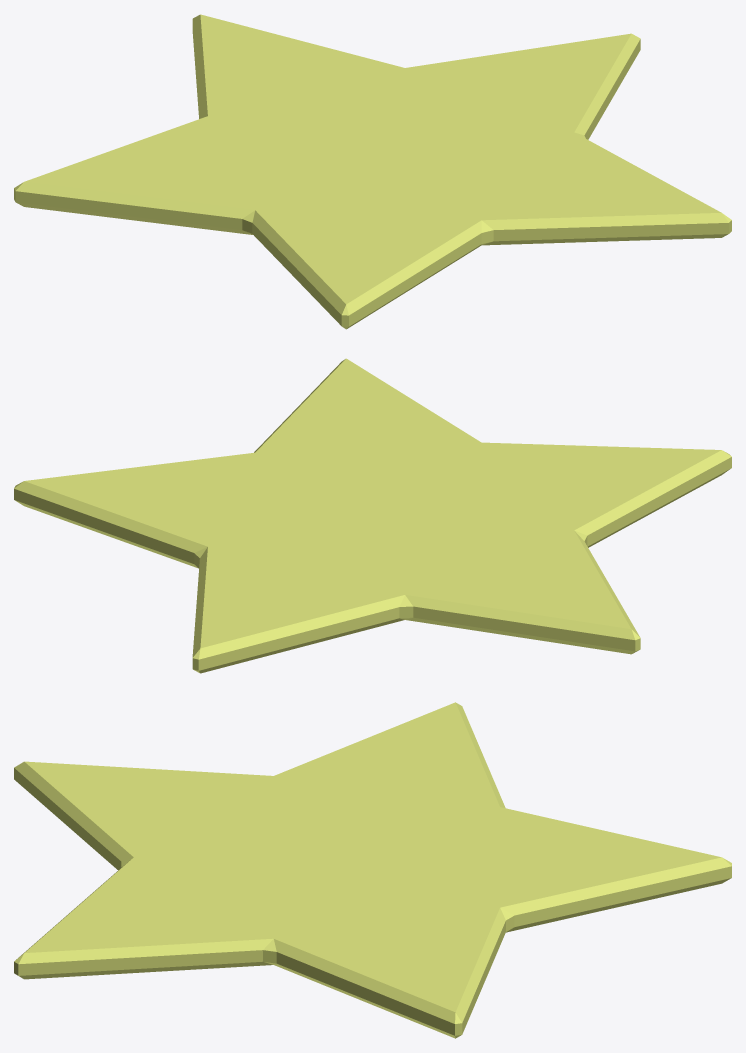
The model's file is hvezda.glb.
The picture shows the model from 3 angles, top to bottom: view 1: azimuth 30°, elevation 25°; view 2: azimuth 150°, elevation 25°; view 3: azimuth 270°, elevation 25°; orthographic projection. The views are drawn at different scales.
Visible parts, largest first — view 1: Circle; view 2: Circle; view 3: Circle.
Part boxes in pixels (bbox=[...]): Circle: bbox=[14, 14, 731, 329]; Circle: bbox=[14, 358, 731, 673]; Circle: bbox=[14, 702, 731, 1038].
Size of the model in its own units: 1.87 by 0.072 by 1.78.
